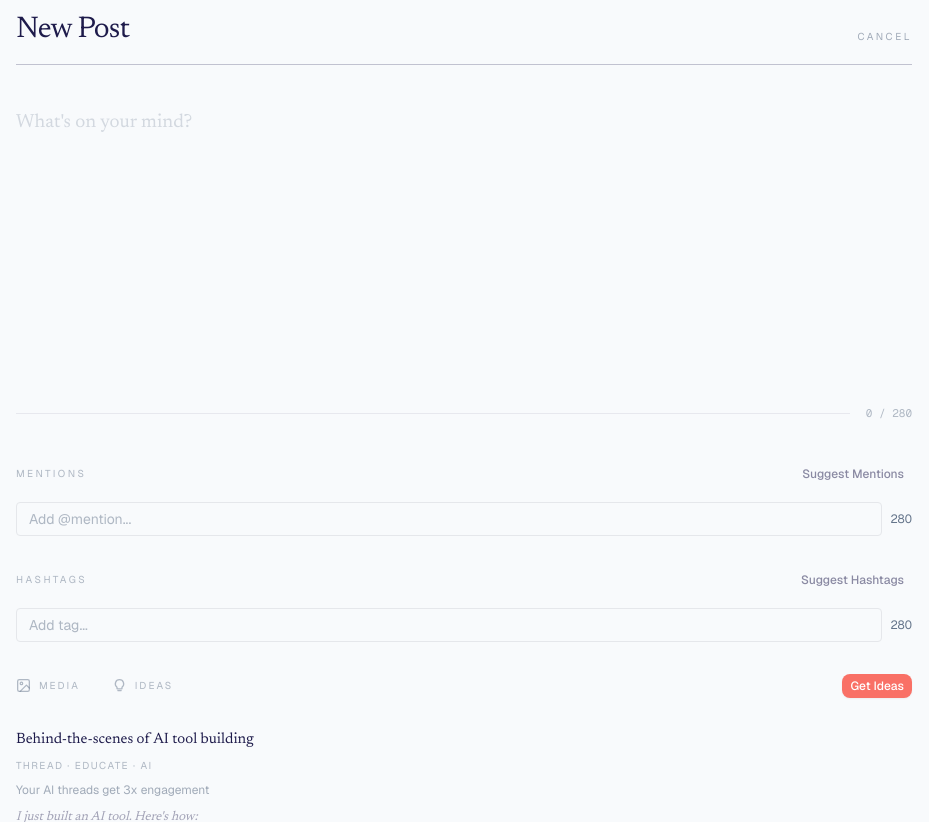
Test case: New post editor page › includes tags in char counter calculation
Type "Hello" into the text box with placeholder "What's on your mind?" at (464, 246), box x1=16 y1=105 x2=912 y2=386
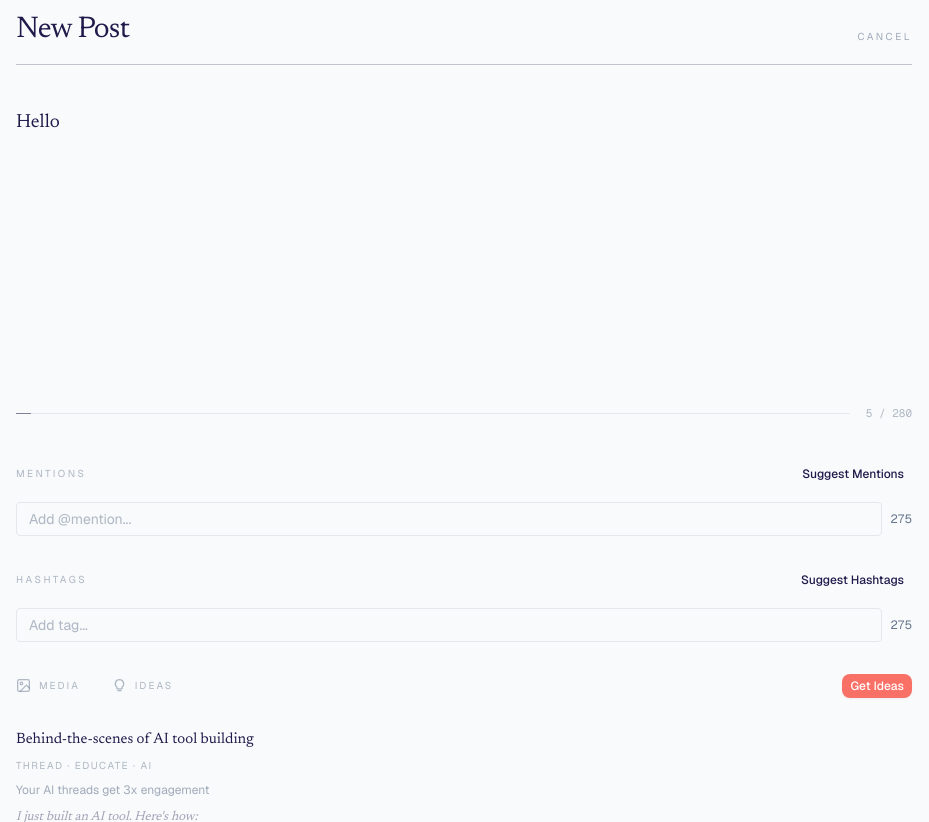
Note: Add a tag via the input
Type "react" into the field with placeholder "Add tag..." at (449, 625), box x1=16 y1=608 x2=882 y2=642
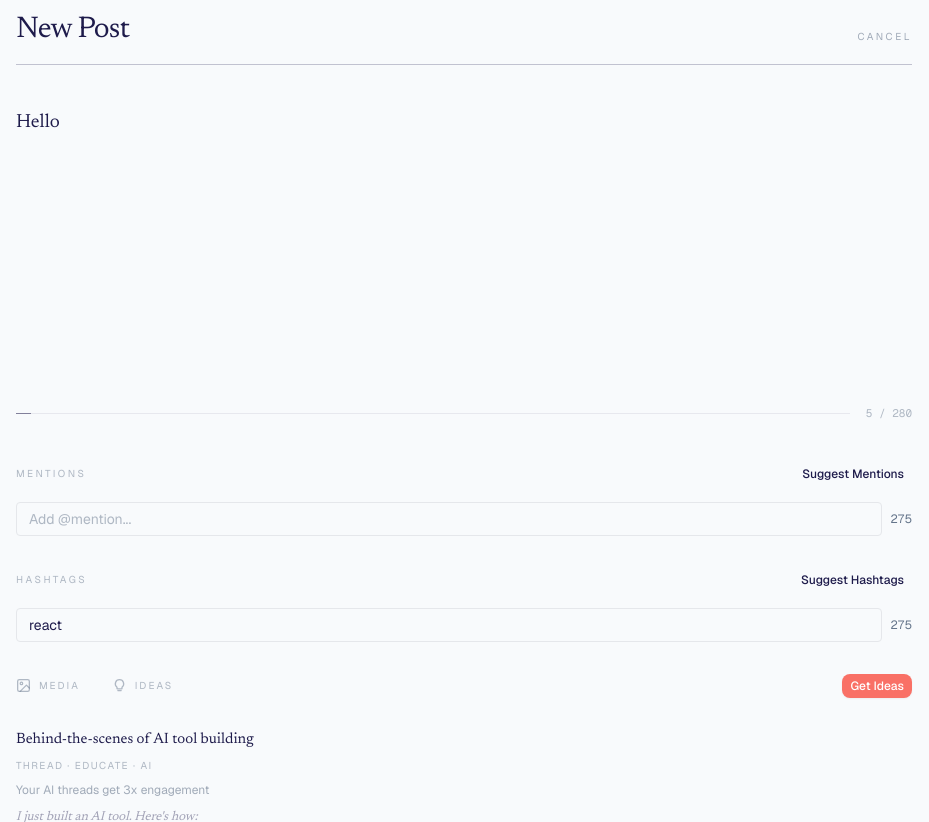
Press Enter in the field with placeholder "Add tag...", box x1=16 y1=608 x2=882 y2=642
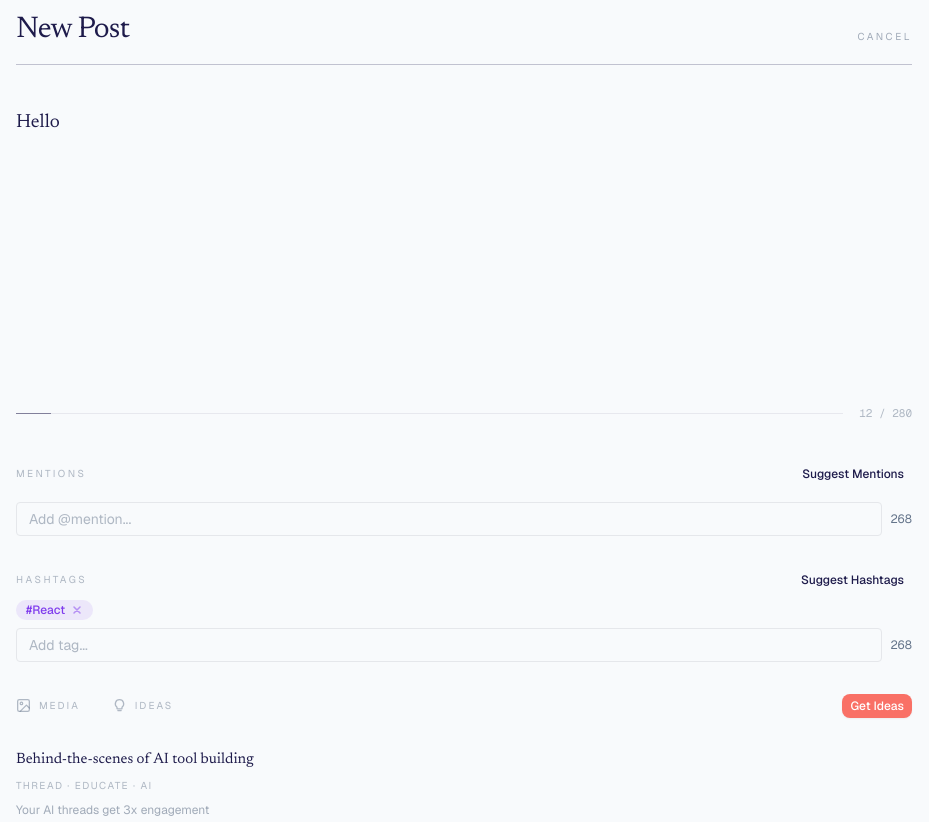
Result: the text "12 / 280" is shown at x1=859 y1=405 x2=912 y2=422
